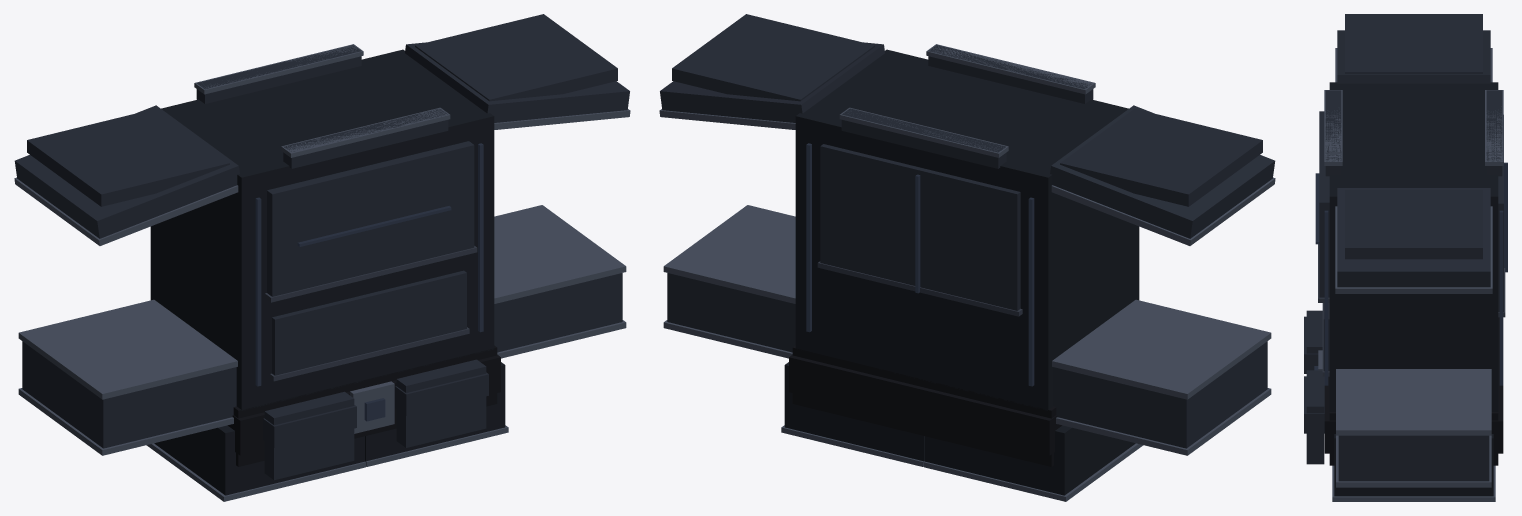
3 renders of one model, left to right at view 1: azimuth 30°, elevation 25°; view 2: azimuth 150°, elevation 25°; view 3: azimuth 270°, elevation 25°, orthographic. The views are drawn at different scales.
Visible parts, largest first — view 1: armor-operative; view 2: armor-operative; view 3: armor-operative.
Part boxes in pixels (x1,y1,x2,y2): armor-operative: (14, 14, 630, 501); armor-operative: (659, 14, 1275, 501); armor-operative: (1304, 14, 1507, 501).
Bounding box in the file's own units: 1.16 × 0.6996 × 0.4144.
